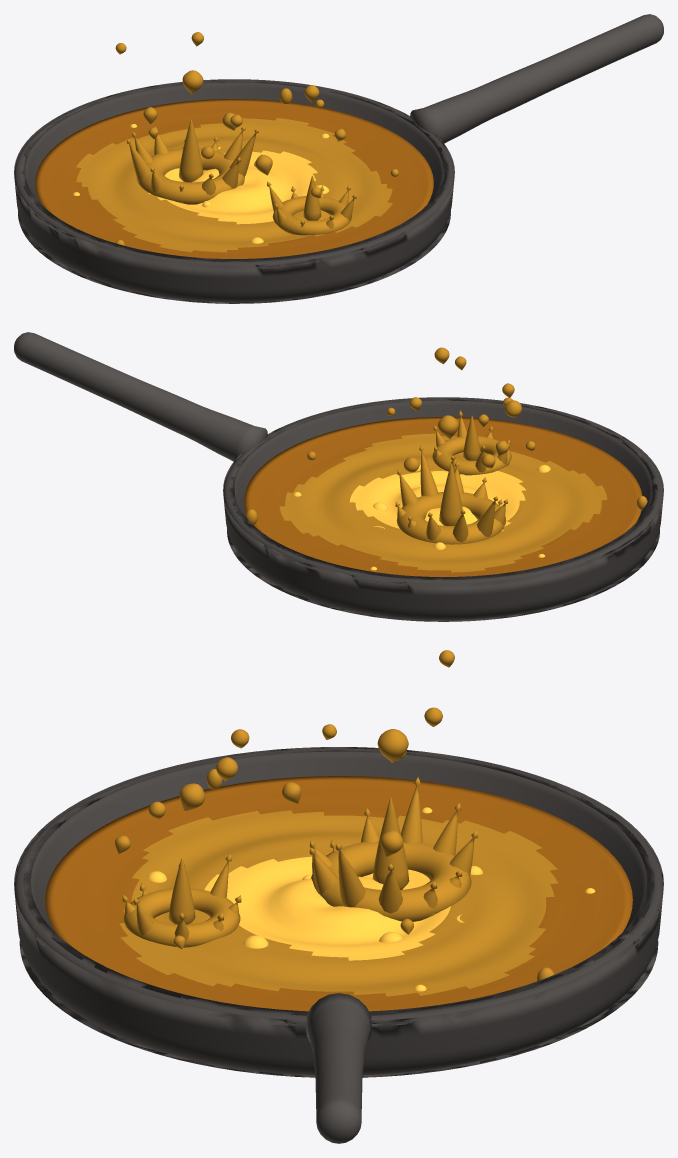
Rendered from frying_pan_oil.glb.
3 renders of one model, top to bottom at view 1: azimuth 30°, elevation 25°; view 2: azimuth 150°, elevation 25°; view 3: azimuth 270°, elevation 25°, orthographic. The views are drawn at different scales.
Visible parts, largest first — view 1: PanOil, PanBody, OilSplash, PanHandle; view 2: PanOil, PanBody, OilSplash, PanHandle; view 3: PanOil, PanBody, OilSplash, PanHandle, OilBubbles.
Part boxes in pixels (left/top/right/bottom): PanOil: left=35, top=99, right=433, bottom=258; PanBody: left=14, top=79, right=454, bottom=303; OilSplash: left=115, top=32, right=398, bottom=245; PanHandle: left=410, top=14, right=663, bottom=143; PanOil: left=244, top=417, right=642, bottom=576; PanBody: left=223, top=397, right=663, bottom=621; OilSplash: left=245, top=347, right=647, bottom=544; PanHandle: left=14, top=332, right=267, bottom=461; PanOil: left=45, top=776, right=632, bottom=1011; PanBody: left=14, top=747, right=663, bottom=1077; OilSplash: left=115, top=650, right=554, bottom=981; PanHandle: left=305, top=993, right=372, bottom=1143; OilBubbles: left=147, top=807, right=595, bottom=991.
Size of the model in its own units: 0.4663 by 0.1281 by 0.288.
